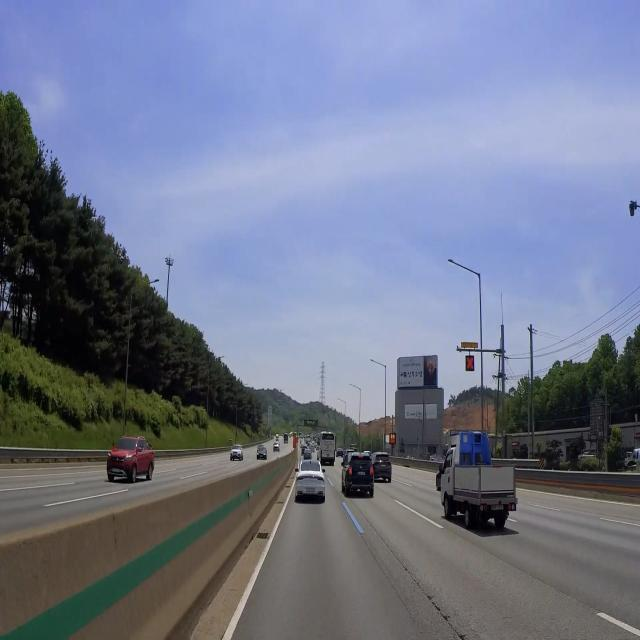car: (354, 464, 369, 484), (304, 483, 317, 500), (491, 501, 508, 513), (378, 461, 392, 473), (110, 465, 123, 477)
